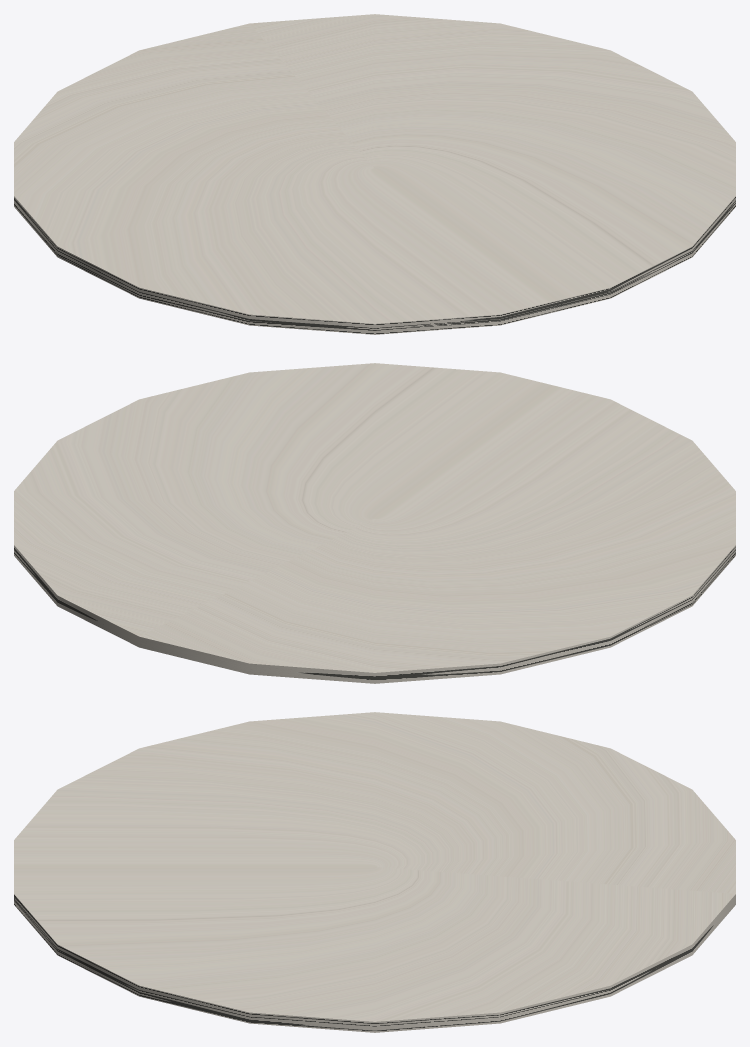
Rendered from kaitenyuka.fbx.
3 views of the same model, one above another, from view 1: azimuth 30°, elevation 25°; view 2: azimuth 150°, elevation 25°; view 3: azimuth 270°, elevation 25° (orthographic).
Parts seen in each view (by area): view 1: Cylinder001; view 2: Cylinder001; view 3: Cylinder001.
Boxes of the visible parts, left/top/right/bottom form: Cylinder001: left=14, top=14, right=735, bottom=334; Cylinder001: left=14, top=363, right=735, bottom=683; Cylinder001: left=14, top=712, right=735, bottom=1032.
Size of the model in its own units: 164 by 2.69 by 161.
